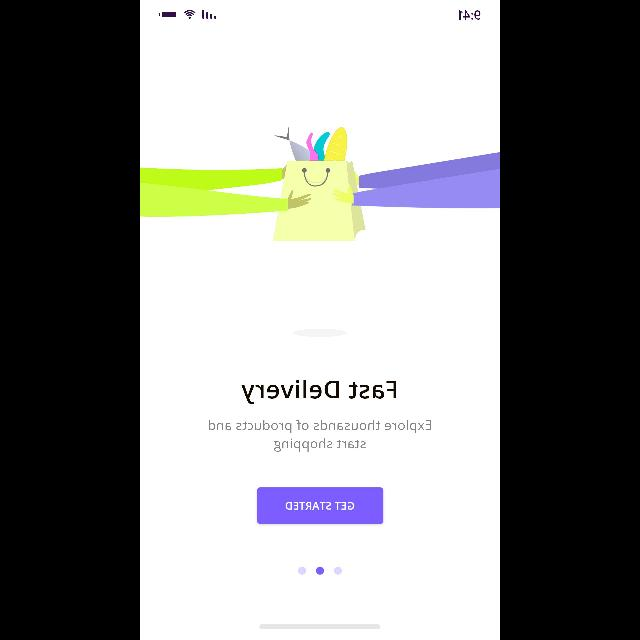image: (140, 127, 500, 241)
pageindicator: (298, 567, 342, 575)
text: (209, 420, 431, 452), (242, 380, 396, 404)
textbutton: (257, 488, 383, 524)
uppertaskbar: (159, 10, 481, 20)
